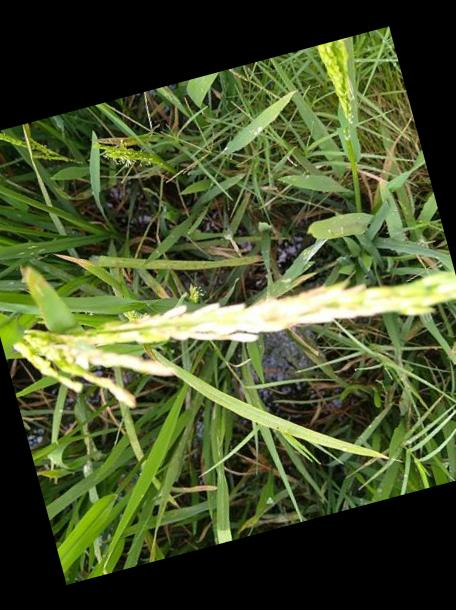Leaf Blight: (19, 264, 74, 332), (52, 251, 93, 270)
